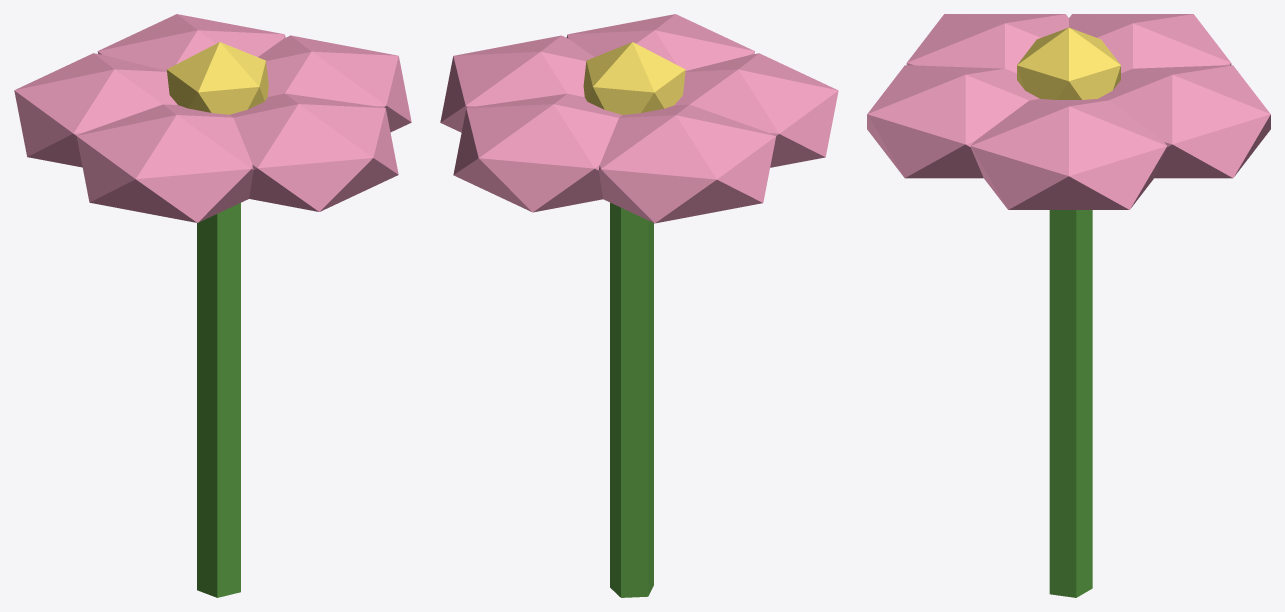
Rendered from flower.glb.
3 renders of one model, left to right at view 1: azimuth 30°, elevation 25°; view 2: azimuth 150°, elevation 25°; view 3: azimuth 270°, elevation 25°, orthographic. The views are drawn at different scales.
Visible parts, largest first — view 1: Cylinder; view 2: Cylinder; view 3: Cylinder.
Boxes of the visible parts, bbox=[...] form: Cylinder: bbox=[14, 14, 411, 597]; Cylinder: bbox=[440, 14, 838, 597]; Cylinder: bbox=[867, 14, 1270, 597].
Size of the model in its own units: 0.2493 by 0.3822 by 0.2493.
